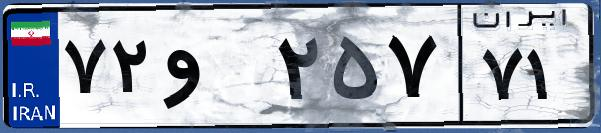1: (525, 38, 570, 115)
2: (270, 28, 330, 110), (110, 28, 158, 98)
5: (330, 28, 385, 110)
7: (385, 28, 445, 110), (57, 26, 110, 100), (475, 38, 525, 113)
و: (158, 20, 270, 120)
